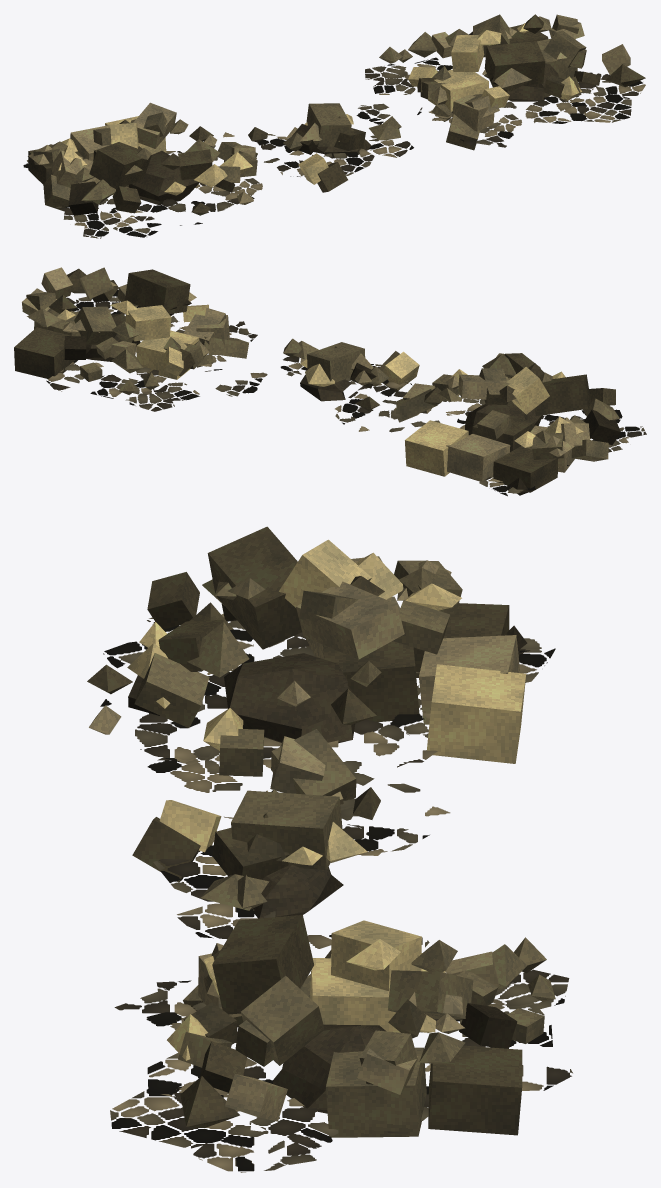
File: CreFence01a.glb
3 renders of one model, top to bottom at view 1: azimuth 30°, elevation 25°; view 2: azimuth 150°, elevation 25°; view 3: azimuth 270°, elevation 25°, orthographic. The views are drawn at different scales.
Parts seen in each view (by area): view 1: f1_st; view 2: f1_st; view 3: f1_st.
Boxes of the visible parts, bbox=[...] form: f1_st: bbox=[23, 14, 645, 238]; f1_st: bbox=[14, 267, 646, 496]; f1_st: bbox=[87, 526, 572, 1172].
Size of the model in its own units: 3.37 by 0.4759 by 1.22.
2 materials, 2 textured.
